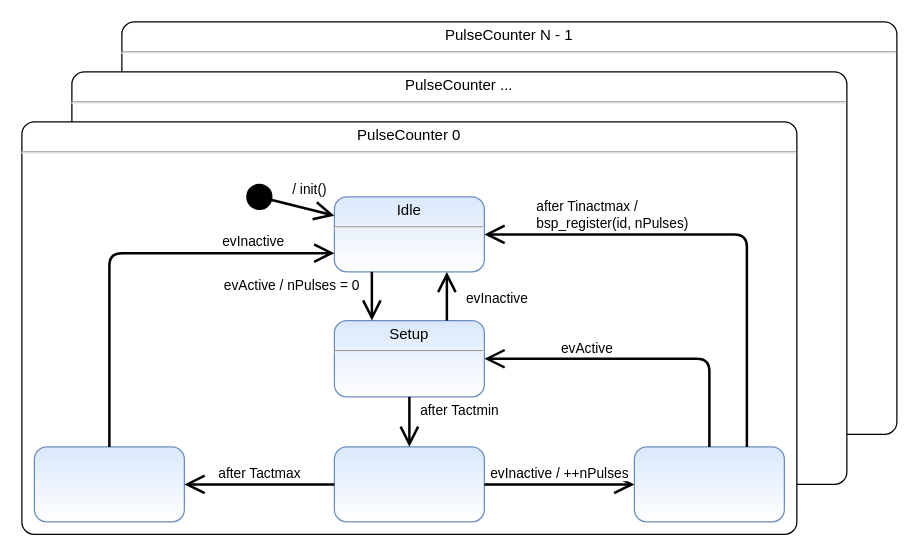
The diagram is 919 pixels wide and 556 high, and some of its shapes have lost their labels. Here are the shapes that lost their labels. From the top down, the centre of each, then its label:
At point 108,484: "WaitInactive".
At point 408,484: "Active".
At point 708,484: "Inactive".
